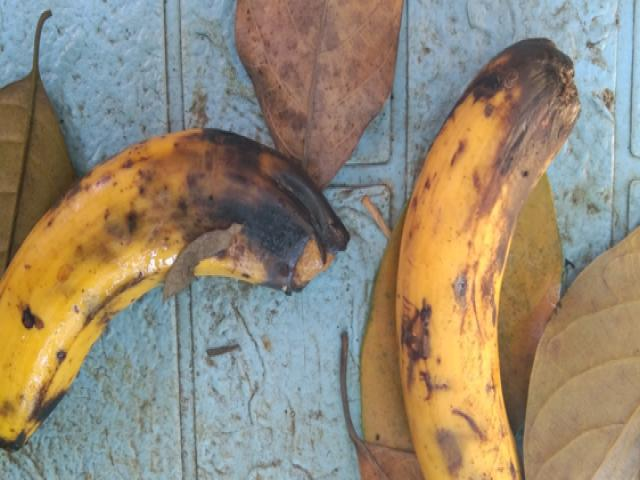overripe: (390, 192, 557, 479), (0, 213, 148, 472)
rotten: (59, 96, 343, 337), (424, 13, 592, 205)
